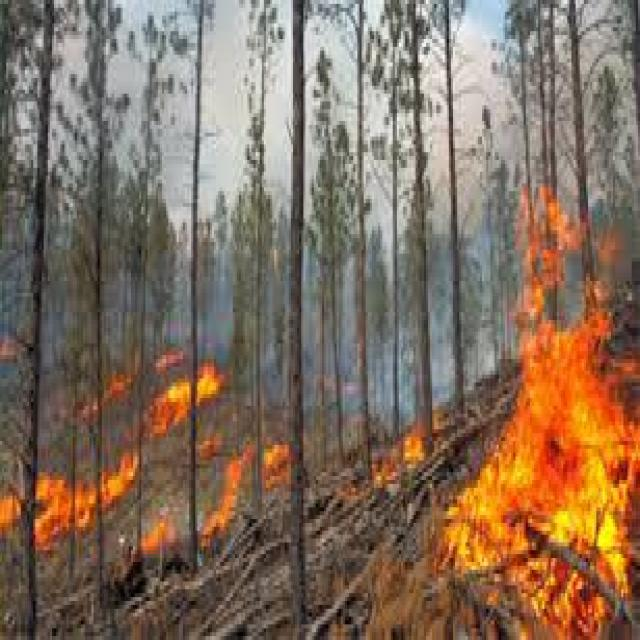fire: (463, 200, 640, 640), (14, 356, 290, 584)
